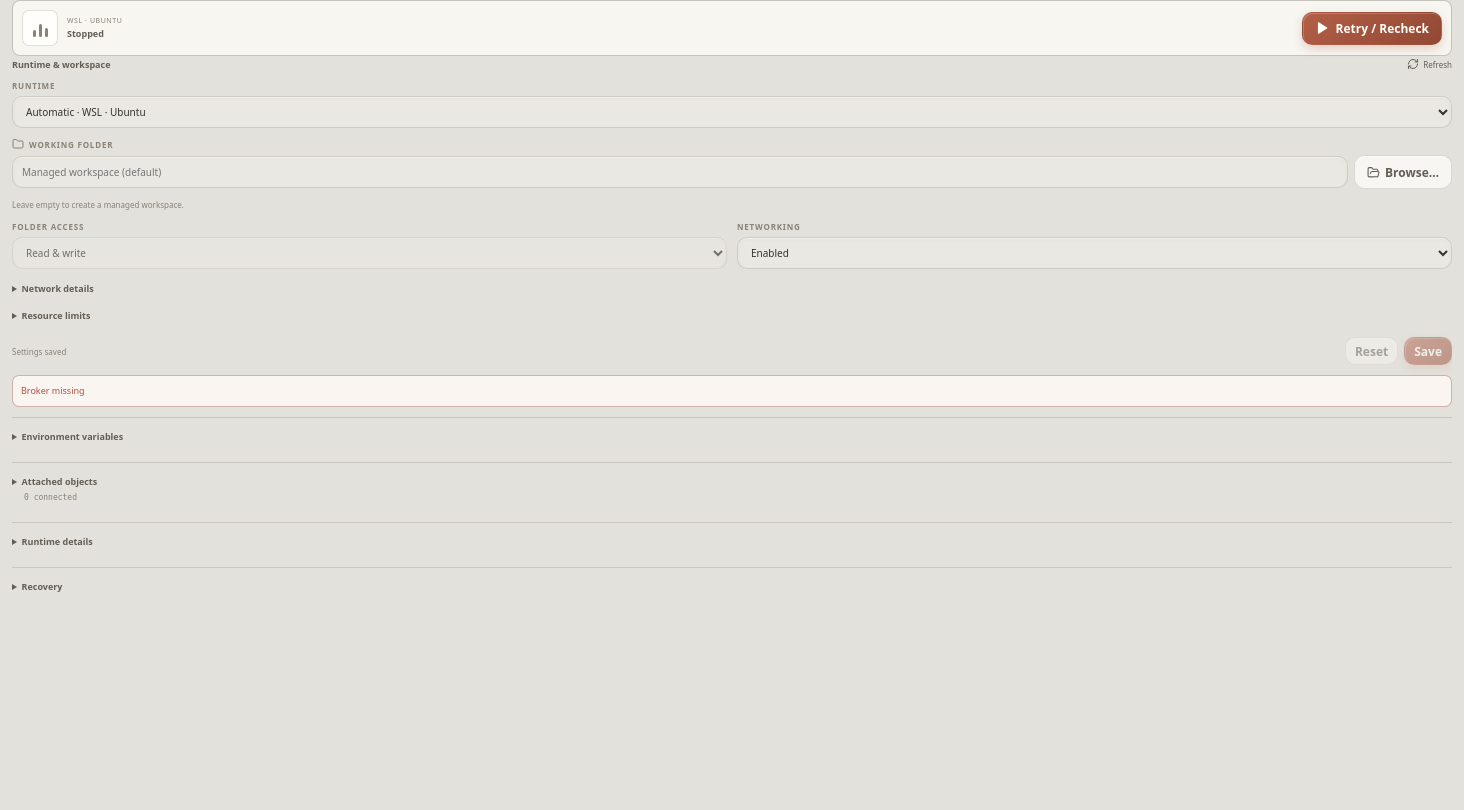
Scenario: sandbox configuration UI › explicit recheck replaces a failed prerequisite reason without changing the saved policy
Expected: the message "Broker missing" is shown, [12, 375, 1452, 406]
Click the button with aria-label "Refresh sandbox environment". click: (1430, 64)
box: [1407, 56, 1452, 72]
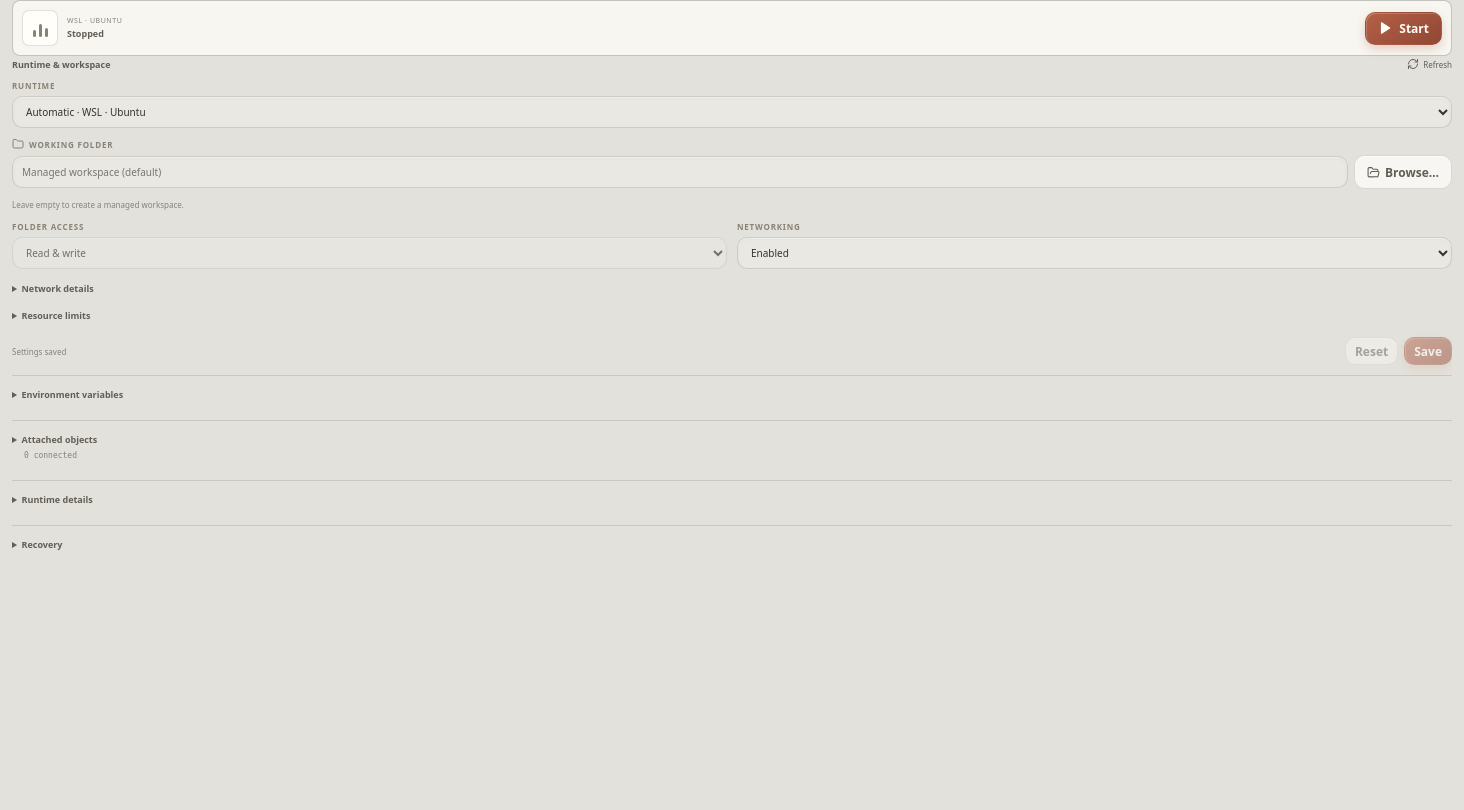
Expected: the button "Start" is enabled, [1365, 12, 1442, 44]
Result: the message "Broker missing" is gone
Result: the text "Broker missing" is gone
